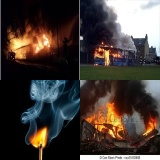fire: (84, 101, 129, 140), (93, 40, 122, 65), (27, 125, 52, 149), (141, 112, 158, 139), (35, 33, 51, 54), (21, 48, 27, 59)
